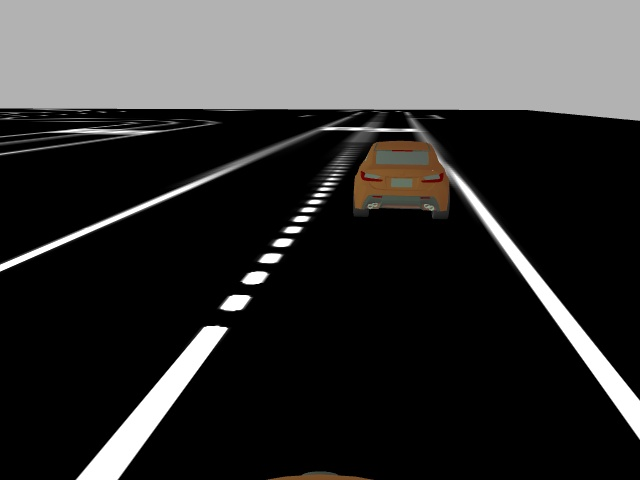obstacle_car: (347, 139, 452, 220)
